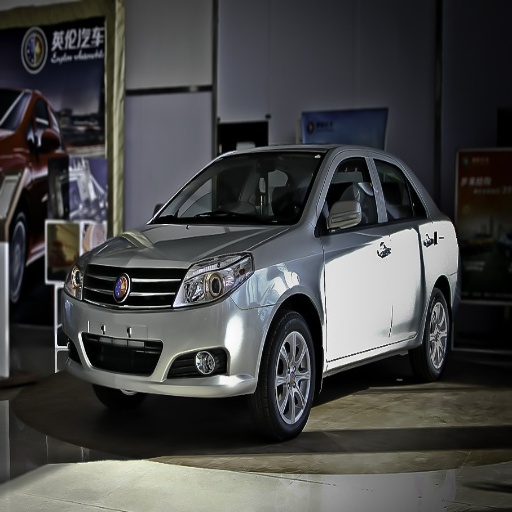front_bumper: (60, 264, 276, 396)
front_glass: (151, 152, 323, 223)
front_left_door: (320, 155, 389, 361)
trunk: (427, 234, 458, 291)
